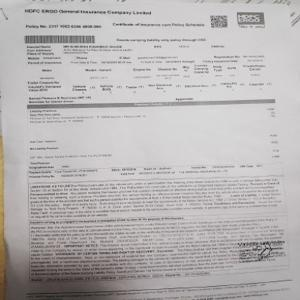image: (235, 11, 266, 25)
table: (24, 101, 279, 177), (26, 43, 273, 100)
text: (32, 220, 291, 283), (28, 177, 281, 216), (25, 5, 154, 18)
